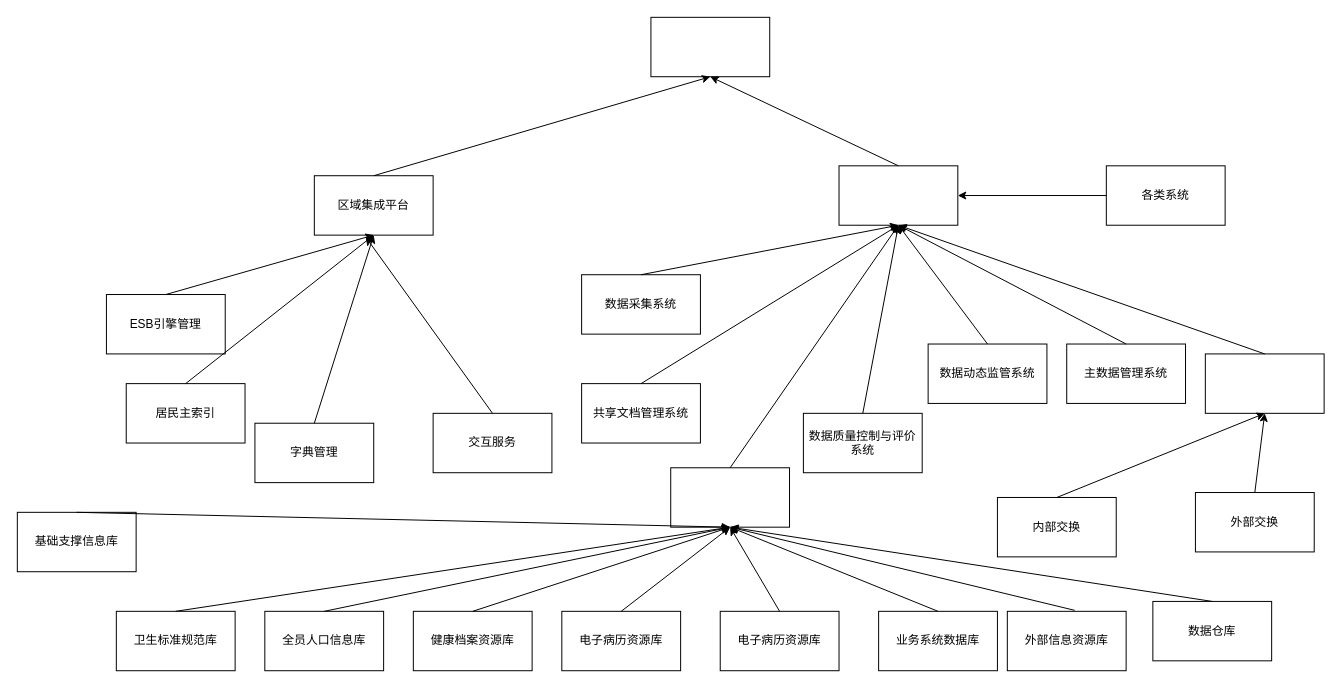
The diagram is 1341 pixels wide and 688 high, and some of its shapes have lost their labels. Here are the shapes that lost their labels. From the top down, the box of each, then its label:
(650, 16, 770, 77): 互联互通
(838, 165, 958, 225): 数据中心
(1204, 353, 1324, 413): 数据共享交换
(670, 467, 790, 527): 数据中心库
